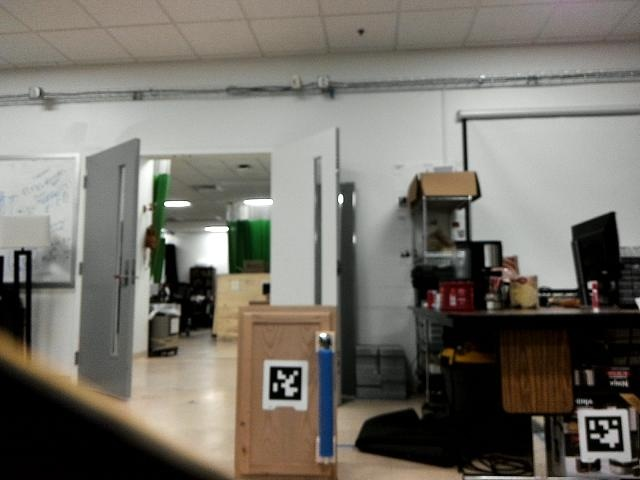noodle_handle: (311, 338, 344, 462)
